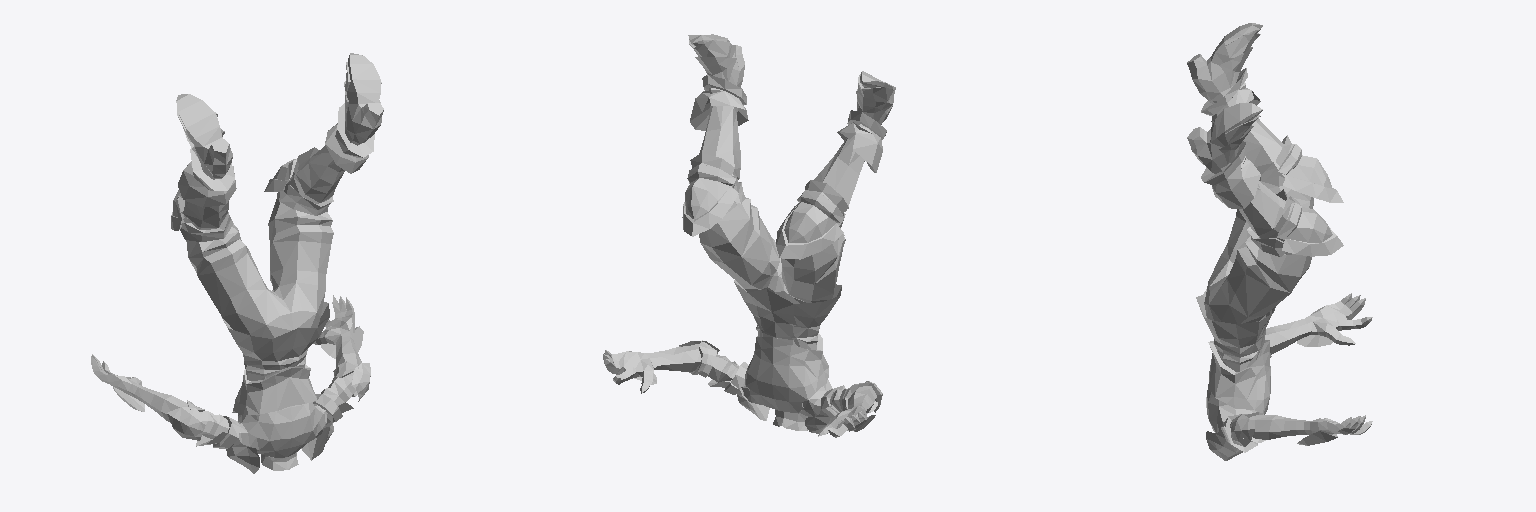
File: cbt010_00_b.obj
The picture shows the model from 3 angles: view 1: azimuth 30°, elevation 25°; view 2: azimuth 150°, elevation 25°; view 3: azimuth 270°, elevation 25°; orthographic projection.
Parts seen in each view (by area): view 1: unnamed; view 2: unnamed; view 3: unnamed.
Boxes of the visible parts, <box> form: unnamed: <box>91,53,383,473</box>; unnamed: <box>603,34,895,437</box>; unnamed: <box>1187,23,1372,460</box>.
Size of the model in its own units: 1.05 by 1.48 by 0.6514.